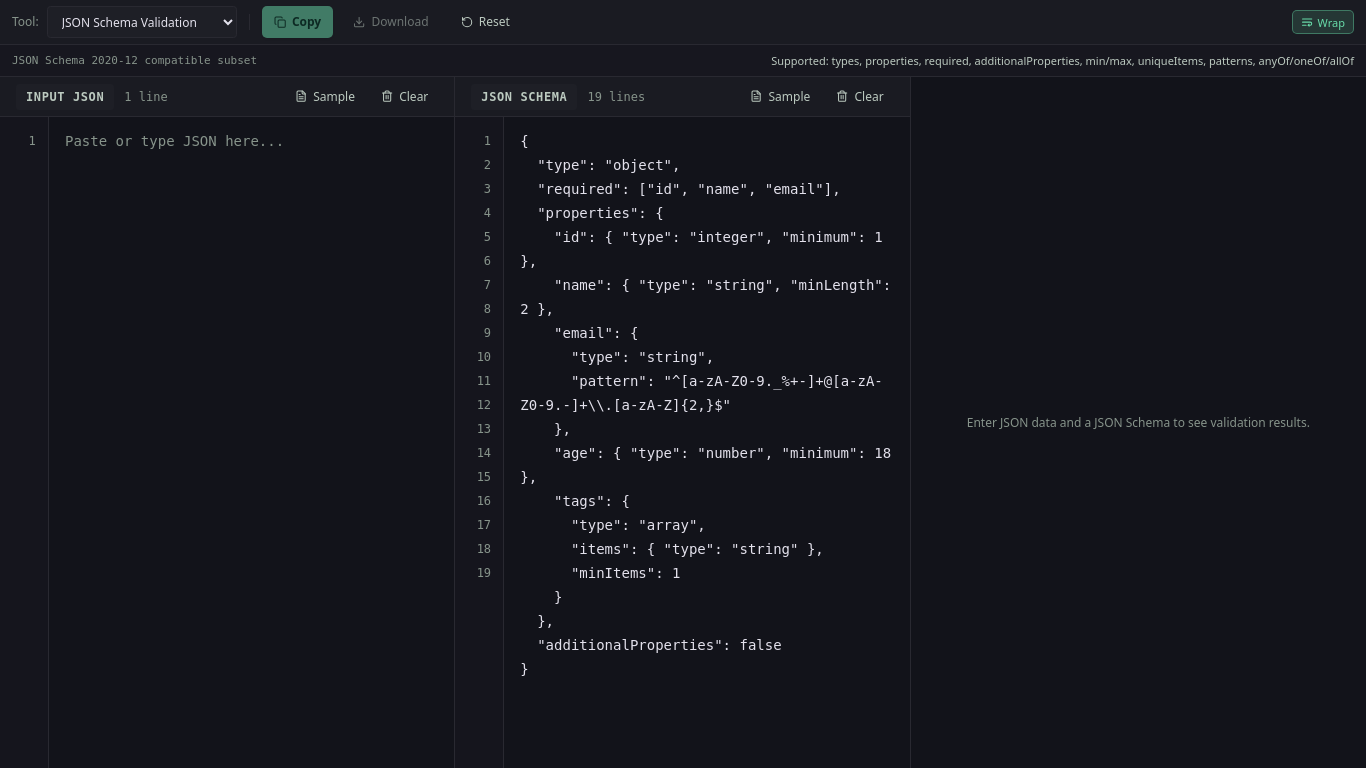
Scenario: Testing Feature Component Suite › supports Schema Validation: displays valid state for matching data
# Click sample to populate both data and schema
What coordinates should you click on to do the following:
click the button with test id "testing-input-sample-btn"
I would click on:
 (325, 97)
Its box is left=285, top=84, right=365, bottom=109.
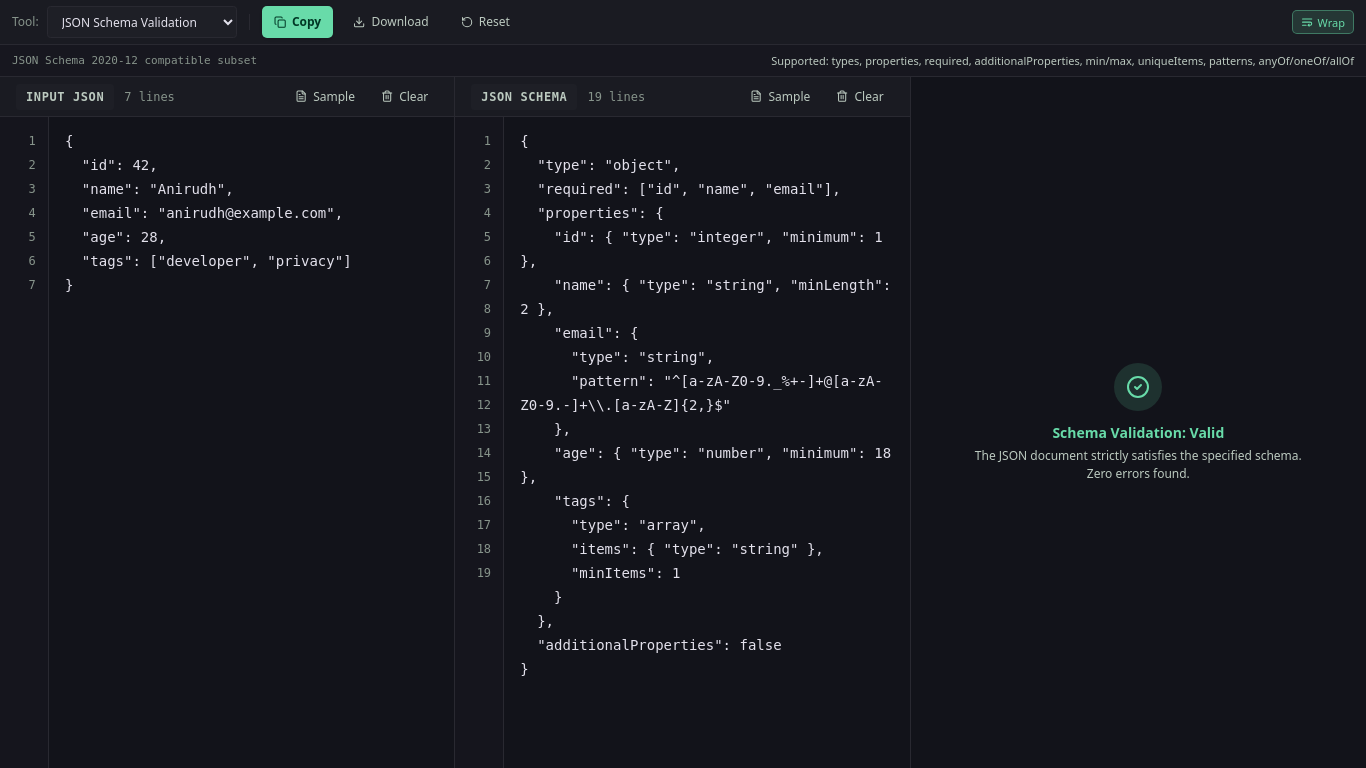
expect the element with test id "schema-editor-pane" is shown: met, box left=455, top=77, right=911, bottom=767
expect the element with test id "schema-valid-result" is shown: met, box left=911, top=77, right=1365, bottom=767
expect the heading "Schema Validation: Valid" is shown: met, box left=1052, top=422, right=1224, bottom=442
